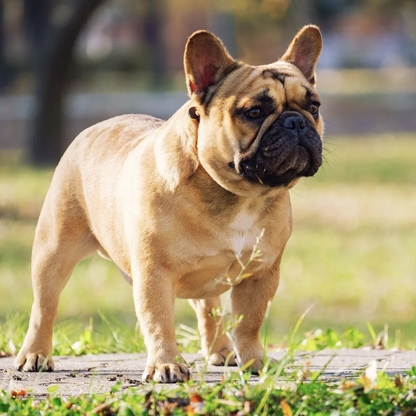bulldog: (5, 21, 335, 387)
